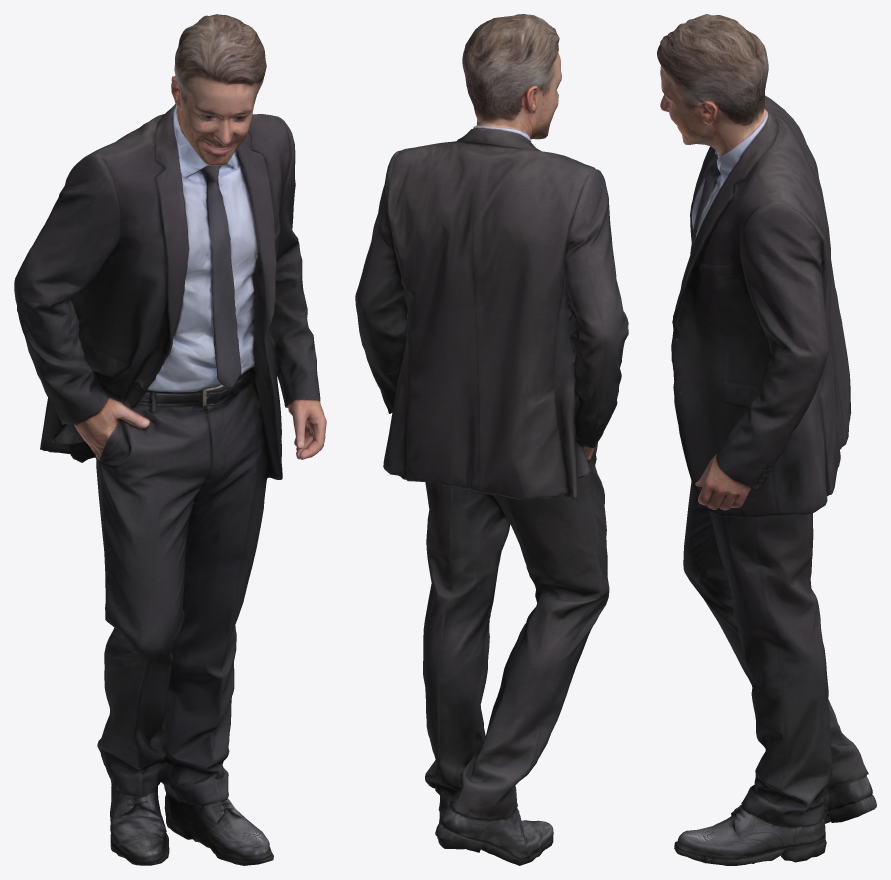
The picture shows the model from 3 angles, left to right: view 1: azimuth 30°, elevation 25°; view 2: azimuth 150°, elevation 25°; view 3: azimuth 270°, elevation 25°; orthographic projection. The views are drawn at different scales.
Visible parts, largest first — view 1: rp_dennis_posed_004_30k; view 2: rp_dennis_posed_004_30k; view 3: rp_dennis_posed_004_30k.
Part boxes in pixels (bbox=[...]): rp_dennis_posed_004_30k: bbox=[14, 14, 326, 865]; rp_dennis_posed_004_30k: bbox=[355, 14, 628, 865]; rp_dennis_posed_004_30k: bbox=[657, 14, 876, 865].
Size of the model in its own units: 0.6418 by 1.87 by 0.4499.
Materials: 1 (1 with a texture image).
